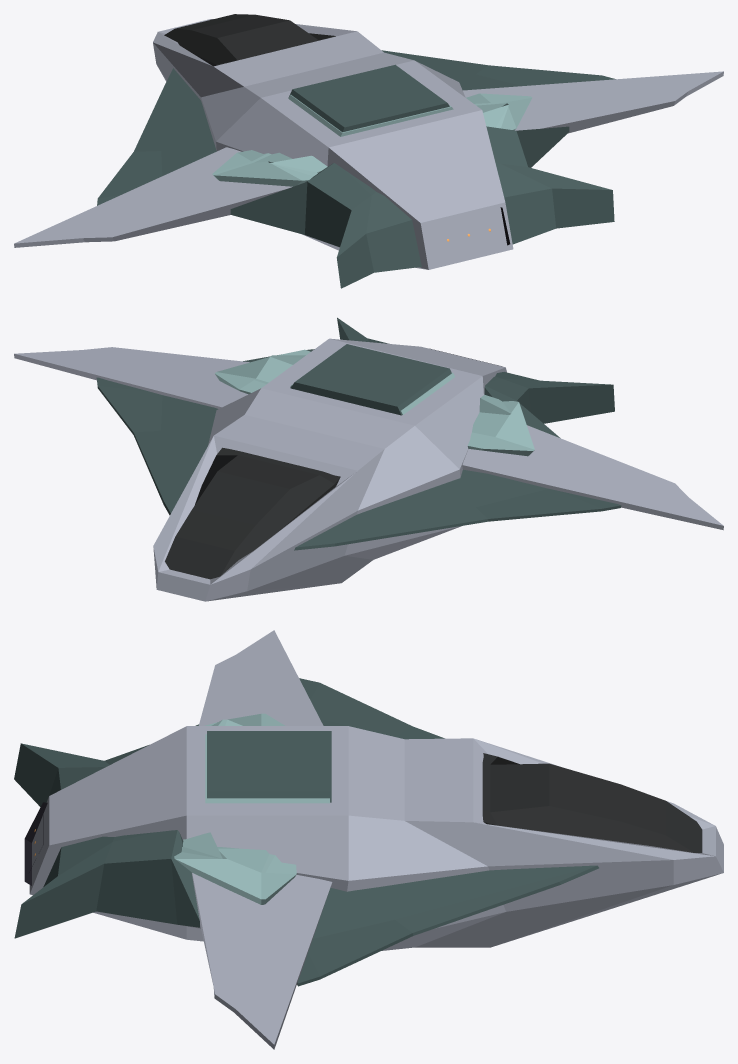
File: THE spaceship.fbx
The picture shows the model from 3 angles, top to bottom: view 1: azimuth 30°, elevation 25°; view 2: azimuth 150°, elevation 25°; view 3: azimuth 270°, elevation 25°; orthographic projection. The views are drawn at different scales.
Visible parts, largest first — view 1: Main Frame, Side frame 1, Wing 2, Side frame 2, Wing 1, Super wing 2, Roof 2, Window, Super wing, Wing cover 1, Wing cover 2, Roof 1; view 2: Main Frame, Window, Super wing 2, Wing 2, Super wing, Wing 1, Roof 2, Side frame 1, Wing cover 1, Wing cover 2, Side frame 2; view 3: Main Frame, Wing 1, Super wing, Window, Side frame 2, Roof 2, Wing 2, Wing cover 2, Side frame 1, Super wing 2, Roof 1, Engine Frame.
Part boxes in pixels (x1,y1,x2,y2): Main Frame: (153, 19, 513, 269); Side frame 1: (230, 163, 421, 288); Wing 2: (14, 147, 292, 247); Side frame 2: (486, 126, 614, 244); Wing 1: (463, 71, 723, 133); Super wing 2: (97, 68, 216, 205); Roof 2: (288, 64, 449, 132); Window: (164, 14, 335, 66); Super wing: (382, 50, 615, 90); Wing cover 1: (212, 150, 327, 186); Wing cover 2: (466, 93, 532, 130); Roof 1: (288, 94, 453, 136); Main Frame: (153, 338, 506, 601); Window: (165, 447, 340, 579); Super wing 2: (294, 469, 621, 550); Wing 2: (462, 425, 723, 530); Super wing: (96, 377, 218, 515); Wing 1: (14, 347, 249, 408); Roof 2: (290, 344, 451, 415); Side frame 1: (484, 372, 614, 438); Wing cover 1: (467, 394, 534, 456); Wing cover 2: (214, 349, 310, 394); Side frame 2: (243, 317, 389, 362); Main Frame: (29, 726, 723, 950); Wing 1: (191, 872, 332, 1049); Super wing: (297, 865, 598, 986); Window: (482, 753, 702, 852); Side frame 2: (14, 830, 199, 938); Roof 2: (207, 731, 331, 802); Wing 2: (198, 630, 323, 725); Wing cover 2: (174, 832, 296, 904); Side frame 1: (14, 724, 198, 806); Super wing 2: (299, 678, 444, 739); Roof 1: (205, 734, 329, 803); Engine Frame: (24, 802, 47, 885).
Size of the model in its own units: 1085 by 183 by 787.
